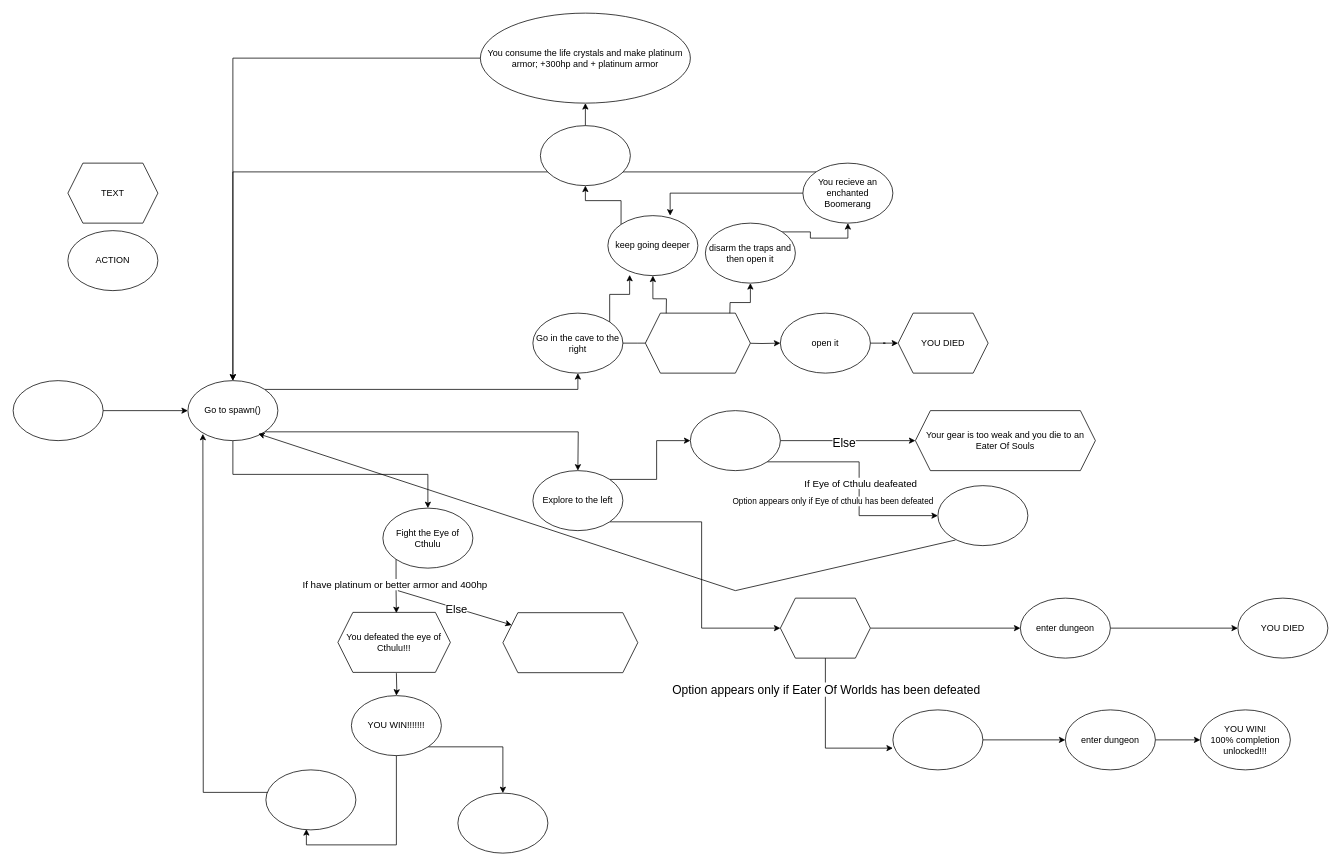
Some shapes in this 1341 by 866 pixel diagram are drawn without their labels. Here are the shapes that lost their labels. From the top down, the box of each, then its label:
(540, 125, 630, 186): You mine some platinum ore and find some life crystals
(645, 312, 750, 373): You see a dead-mans chest
(12, 380, 103, 441): Loaded into a new world
(690, 410, 780, 471): Go in the corruption biome
(937, 485, 1028, 546): Fight the Eater Of Worlds
(502, 612, 638, 673): You died! The eye of Cthulu is way too strong for you
(780, 597, 870, 658): You find a dungeon
(892, 709, 983, 770): Kill Skeletron
(265, 769, 356, 830): Keep playing
(457, 792, 548, 853): End
